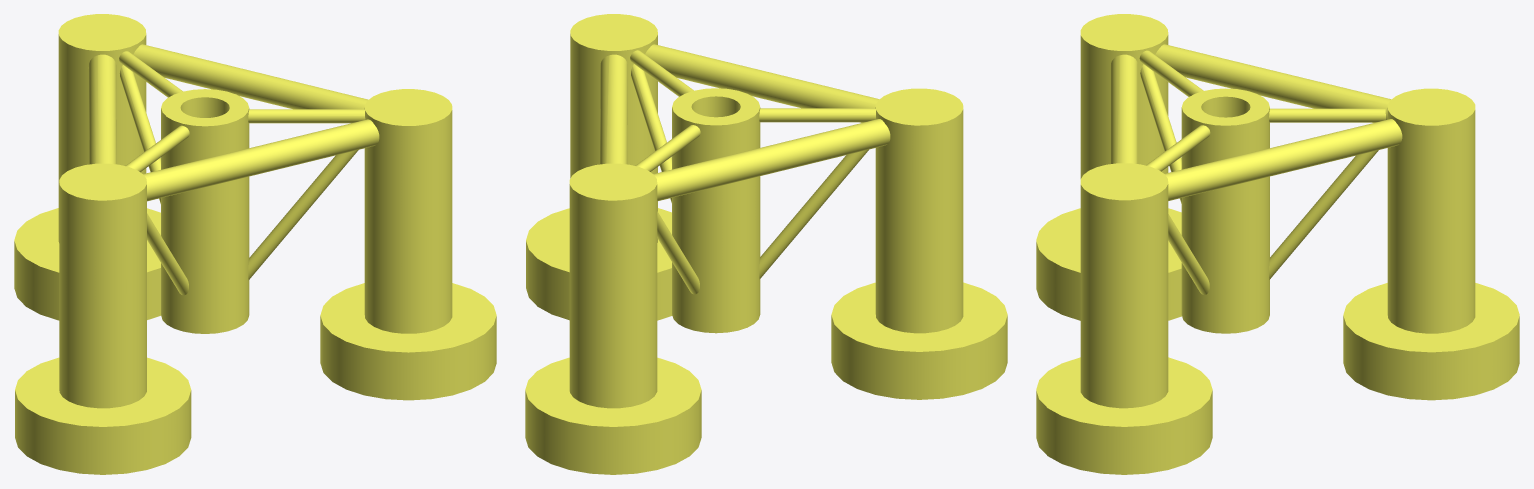
The model's file is wt_offshore_float_device.gltf.
3 renders of one model, left to right at view 1: azimuth 30°, elevation 25°; view 2: azimuth 150°, elevation 25°; view 3: azimuth 270°, elevation 25°, orthographic.
Visible parts, largest first — view 1: Pole (×3), Centerpole, Triangle, Diagonal (×3), Quer (×3); view 2: Pole (×3), Centerpole, Triangle, Diagonal (×3), Quer (×3); view 3: Pole (×3), Centerpole, Triangle, Diagonal (×3), Quer (×3).
Part boxes in pixels (<box>): Pole (×3): <box>14,14,496,474</box>; Centerpole: <box>161,89,249,333</box>; Triangle: <box>88,44,379,201</box>; Diagonal (×3): <box>120,65,358,295</box>; Quer (×3): <box>119,51,365,172</box>; Pole (×3): <box>525,14,1007,474</box>; Centerpole: <box>672,88,760,333</box>; Triangle: <box>600,44,890,201</box>; Diagonal (×3): <box>631,64,868,294</box>; Quer (×3): <box>630,50,875,171</box>; Pole (×3): <box>1036,14,1519,474</box>; Centerpole: <box>1181,88,1269,333</box>; Triangle: <box>1110,44,1402,200</box>; Diagonal (×3): <box>1140,64,1378,294</box>; Quer (×3): <box>1139,50,1385,171</box>.
Size of the model in its own units: 150 by 80 by 137.
